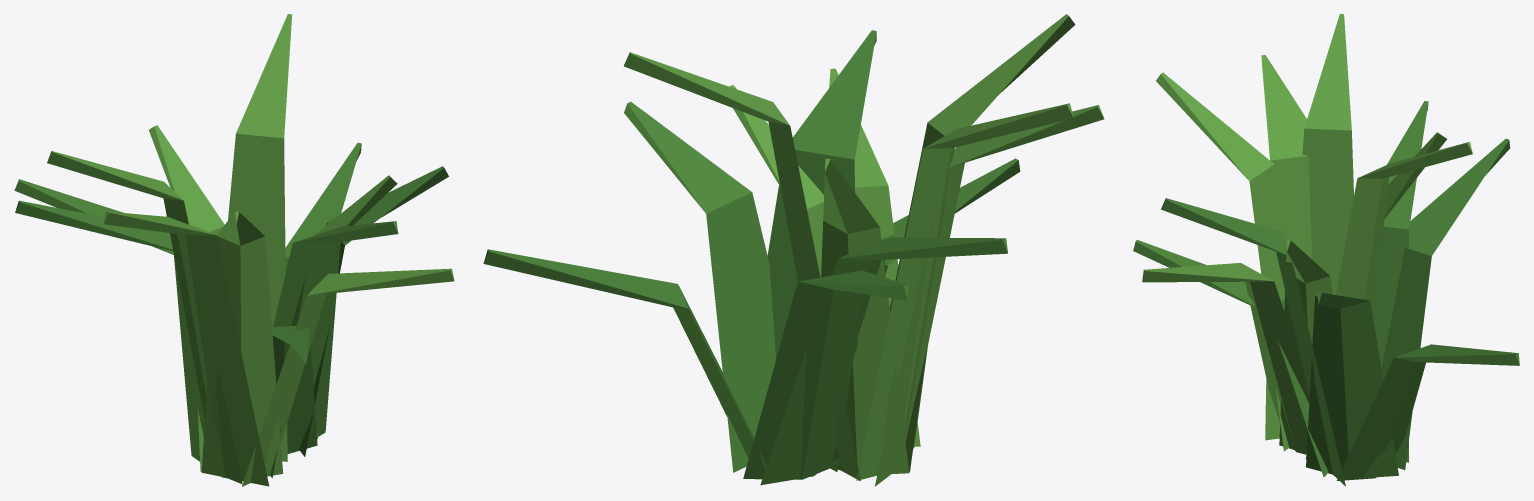
File: grass-tuft.glb
The picture shows the model from 3 angles, left to right: view 1: azimuth 30°, elevation 25°; view 2: azimuth 150°, elevation 25°; view 3: azimuth 270°, elevation 25°; orthographic projection. The views are drawn at different scales.
Parts seen in each view (by area): view 1: GrassTuft_Grass, GrassTuft_GrassDark; view 2: GrassTuft_GrassDark, GrassTuft_Grass; view 3: GrassTuft_Grass, GrassTuft_GrassDark.
Part boxes in pixels (x1,y1,x2,y2): GrassTuft_Grass: [47, 14, 454, 486]; GrassTuft_GrassDark: [14, 142, 448, 456]; GrassTuft_GrassDark: [483, 30, 1020, 485]; GrassTuft_Grass: [624, 14, 1104, 486]; GrassTuft_Grass: [1142, 14, 1472, 458]; GrassTuft_GrassDark: [1133, 101, 1519, 486].
Size of the model in its own units: 1.27 by 1.11 by 1.07.
